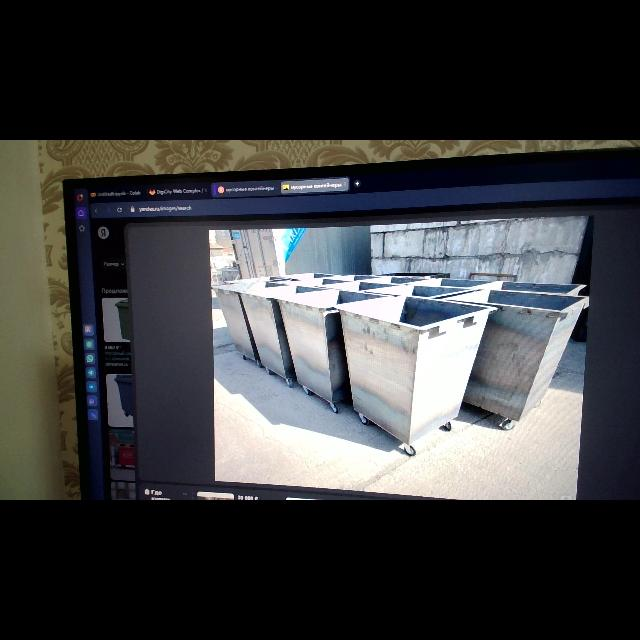Trash_Can_Empty: (336, 294, 498, 442), (443, 287, 589, 421), (273, 288, 393, 402), (237, 283, 328, 379), (211, 280, 287, 362)
